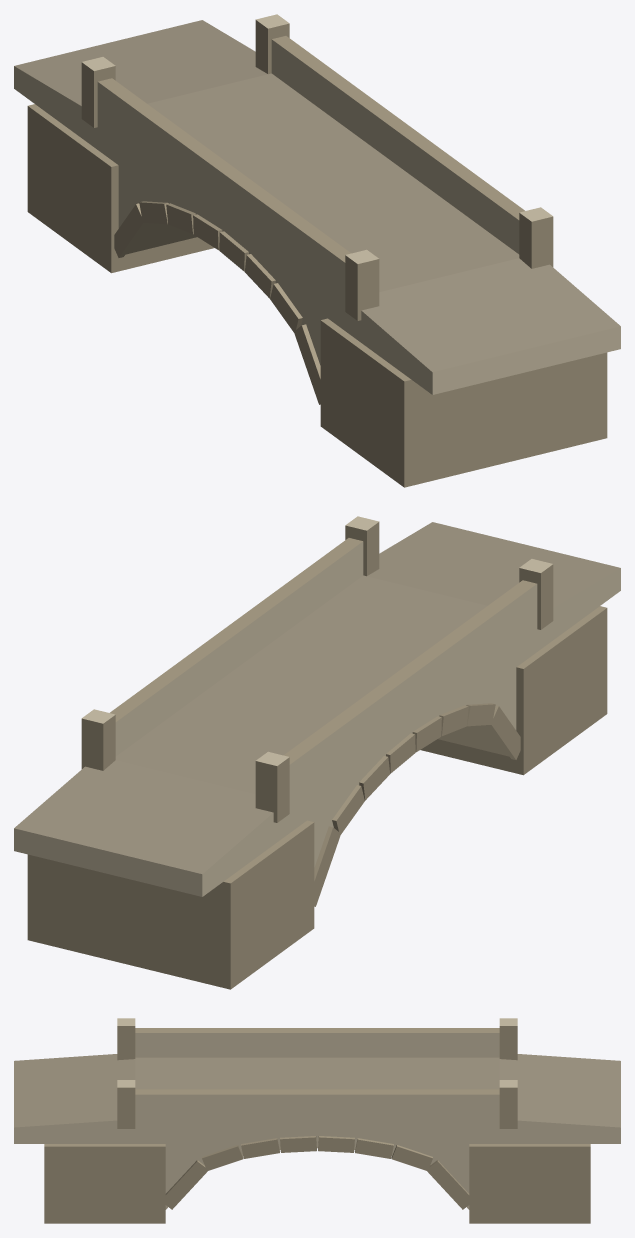
Rendered from bridge_stone.glb.
3 views of the same model, one above another, from view 1: azimuth 30°, elevation 25°; view 2: azimuth 150°, elevation 25°; view 3: azimuth 270°, elevation 25° (orthographic). The views are drawn at different scales.
Parts seen in each view (by area): view 1: LOD0; view 2: LOD0; view 3: LOD0.
Boxes of the visible parts, x1,y1,x2,y2 form: LOD0: (14,14,620,487); LOD0: (14,516,620,989); LOD0: (14,1018,620,1223).
Bounding box in the file's own units: 5.6 × 4.9 × 20.
Materials: 1 (1 with a texture image).
